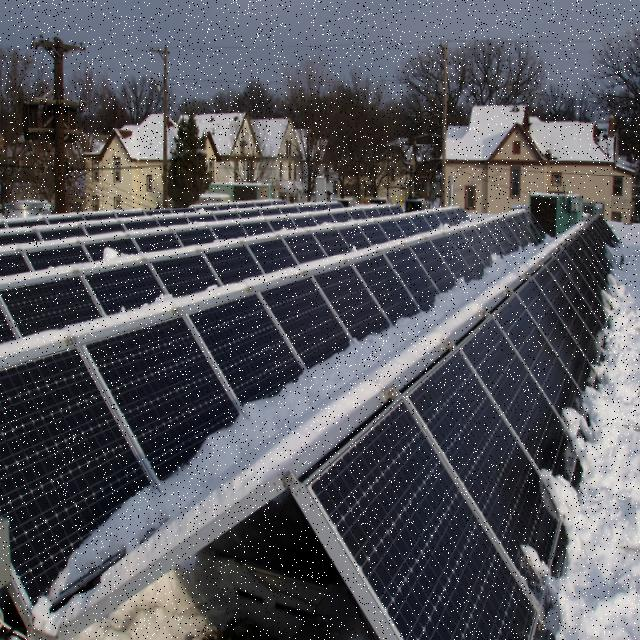snow covered: (3, 211, 599, 617)
